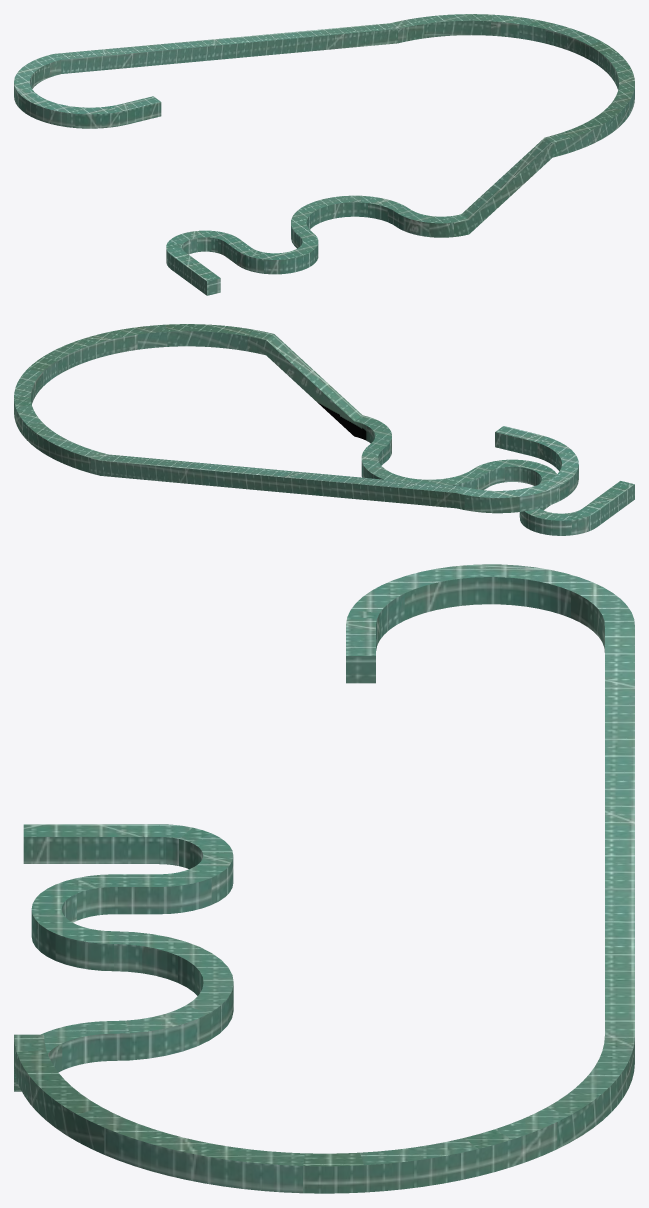
The model's file is level_2.gltf.
3 views of the same model, one above another, from view 1: azimuth 30°, elevation 25°; view 2: azimuth 150°, elevation 25°; view 3: azimuth 270°, elevation 25° (orthographic). The views are drawn at different scales.
Parts seen in each view (by area): view 1: Cube; view 2: Cube; view 3: Cube.
Boxes of the visible parts, box(x1,y1,x2,y2) form: Cube: box(14, 14, 634, 295); Cube: box(14, 324, 634, 535); Cube: box(14, 564, 634, 1193).
Size of the model in its own units: 79.37 by 17 by 41.29.
1 material, 1 textured.
